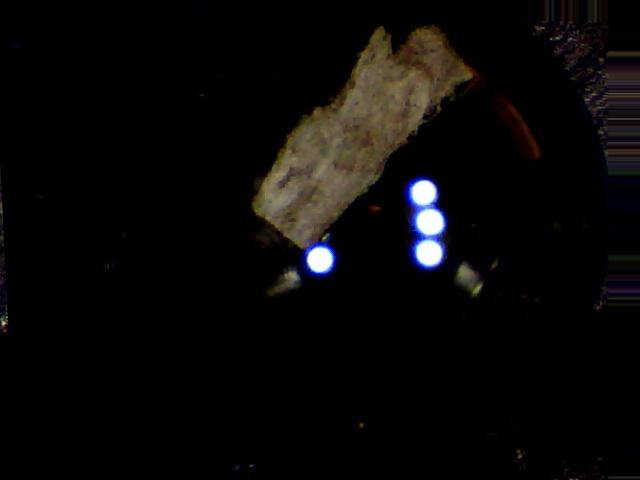megot: (213, 13, 499, 278)
